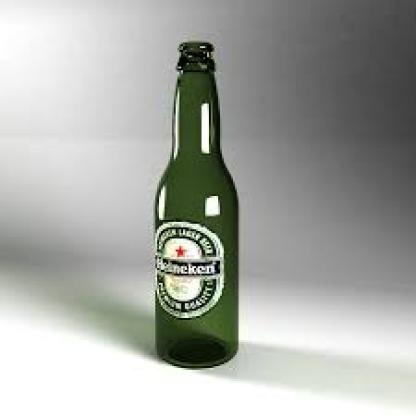trash: (155, 41, 237, 366)
